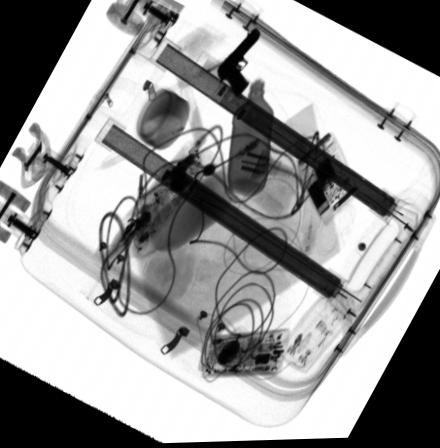Gun: (217, 26, 262, 99)
